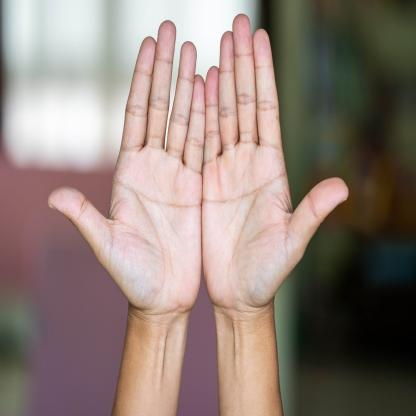palm: (46, 19, 202, 309), (204, 9, 346, 308)
